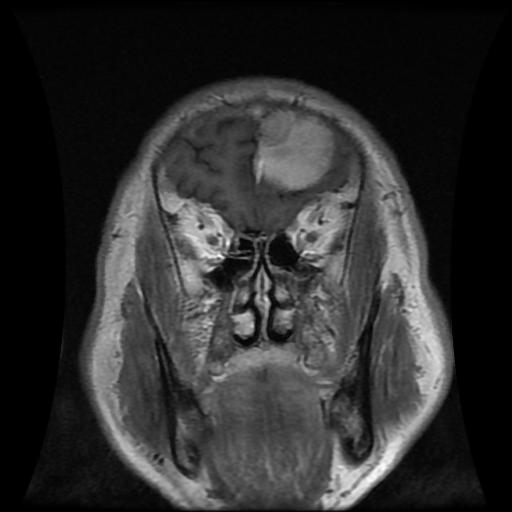Menigiomia_tumour: (251, 109, 334, 190)
